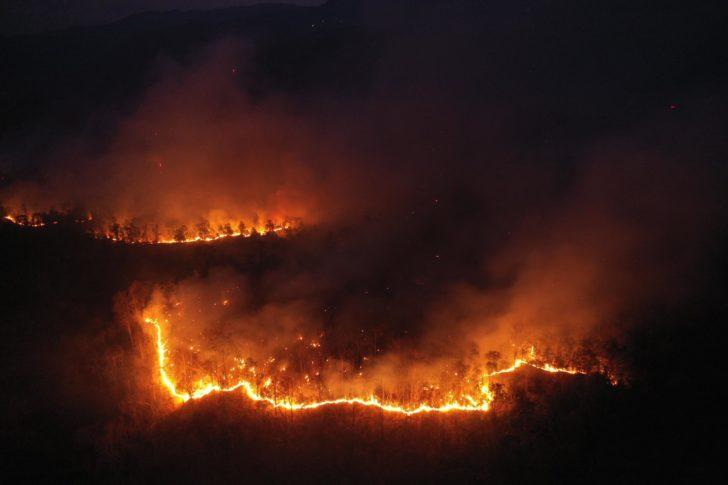fire: (171, 317, 529, 436), (8, 182, 276, 258)
